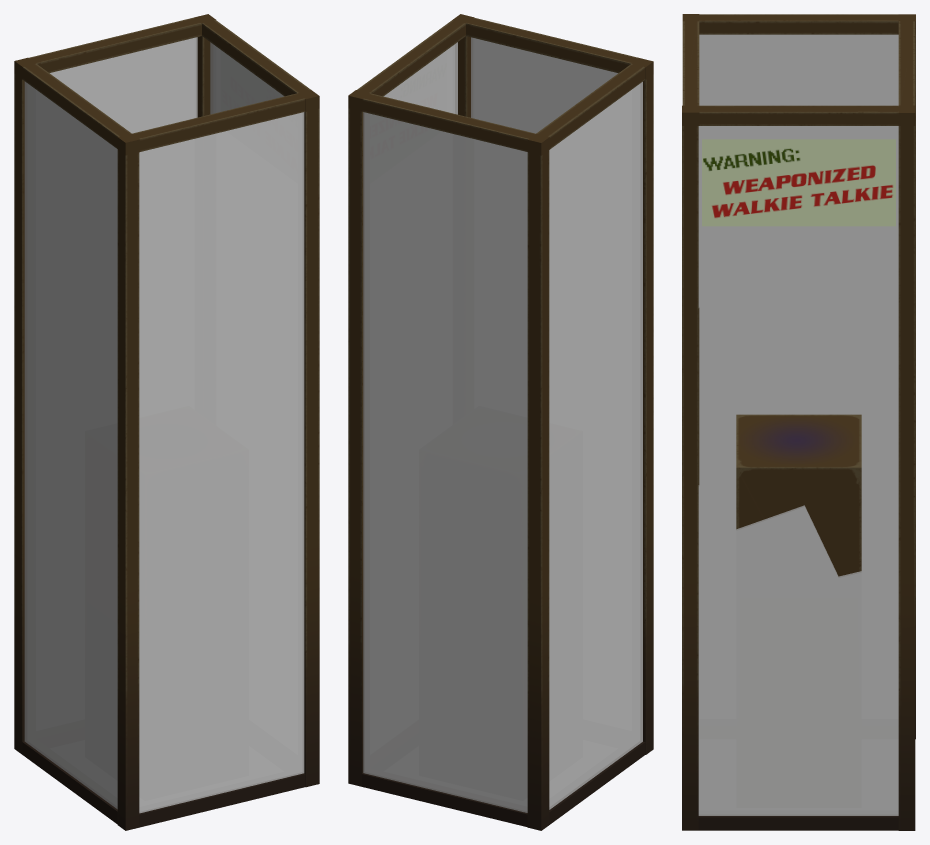
Rendered from LabCase.fbx.
3 views of the same model, side by side, from view 1: azimuth 30°, elevation 25°; view 2: azimuth 150°, elevation 25°; view 3: azimuth 270°, elevation 25° (orthographic). The views are drawn at different scales.
Visible parts, largest first — view 1: lab_case_glass_mesh, lab_case_outercomponents_mesh; view 2: lab_case_glass_mesh, lab_case_outercomponents_mesh; view 3: lab_case_glass_mesh, lab_case_outercomponents_mesh, lab_case_warning_sign_mesh.
Part boxes in pixels (x1,y1,x2,y2): lab_case_glass_mesh: (24, 37, 304, 813); lab_case_outercomponents_mesh: (14, 14, 319, 830); lab_case_glass_mesh: (363, 37, 642, 812); lab_case_outercomponents_mesh: (348, 14, 653, 830); lab_case_glass_mesh: (698, 34, 898, 815); lab_case_outercomponents_mesh: (682, 14, 915, 830); lab_case_warning_sign_mesh: (702, 139, 895, 226).
Bounding box in the file's own units: 1.49 × 4.98 × 1.47.
